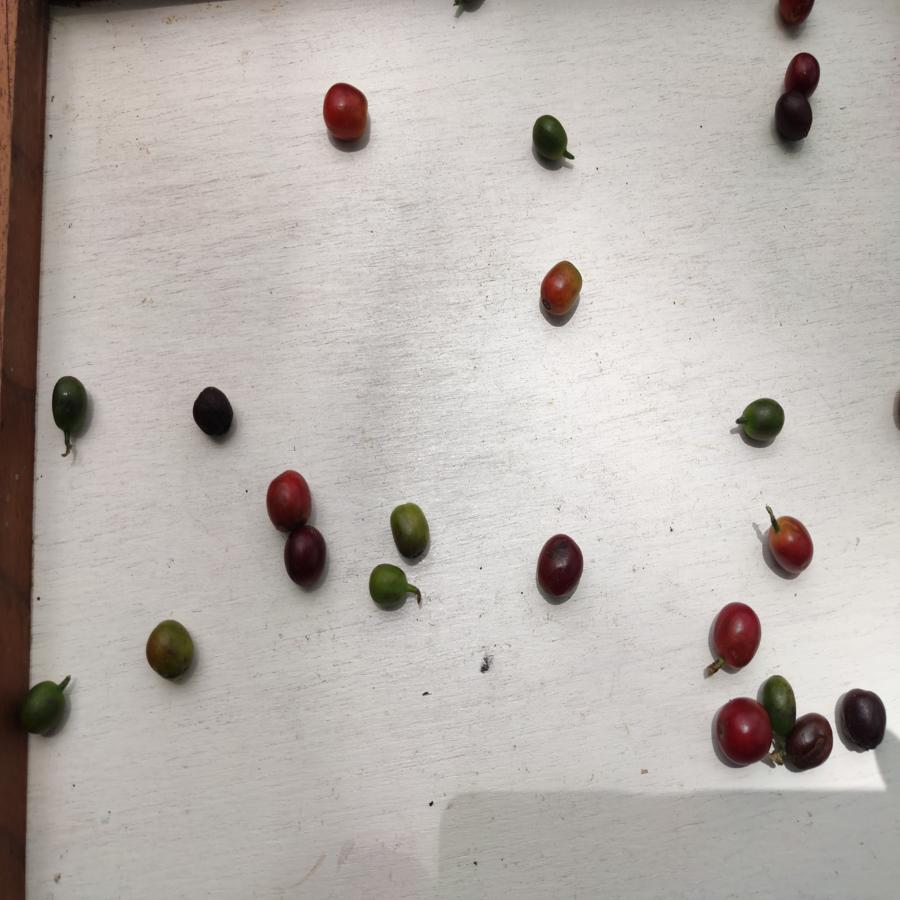Inmaduro: (18, 679, 68, 735), (388, 498, 431, 561), (51, 372, 91, 439), (739, 398, 786, 443), (369, 562, 409, 612), (761, 674, 796, 729), (531, 115, 569, 165)
Maduro: (761, 516, 817, 576), (715, 695, 761, 768), (712, 602, 760, 670), (321, 82, 367, 149), (265, 467, 312, 529)
Pinton: (145, 616, 195, 682), (538, 260, 586, 320)
Sobremaduro: (536, 533, 585, 600), (839, 689, 888, 754), (283, 526, 331, 587), (788, 714, 834, 771), (192, 387, 234, 440), (774, 94, 813, 146), (784, 53, 821, 96), (775, 1, 818, 28)
